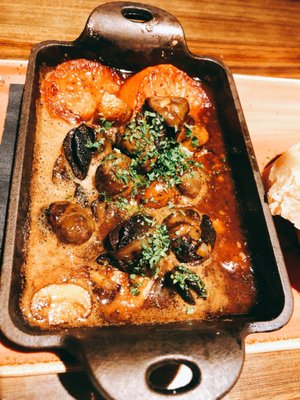sandwich: (14, 7, 258, 331)
